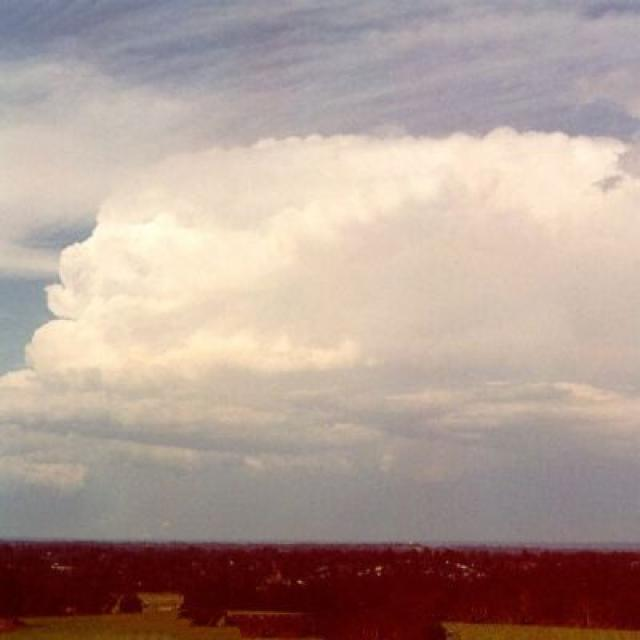Ci: (1, 77, 640, 506)
